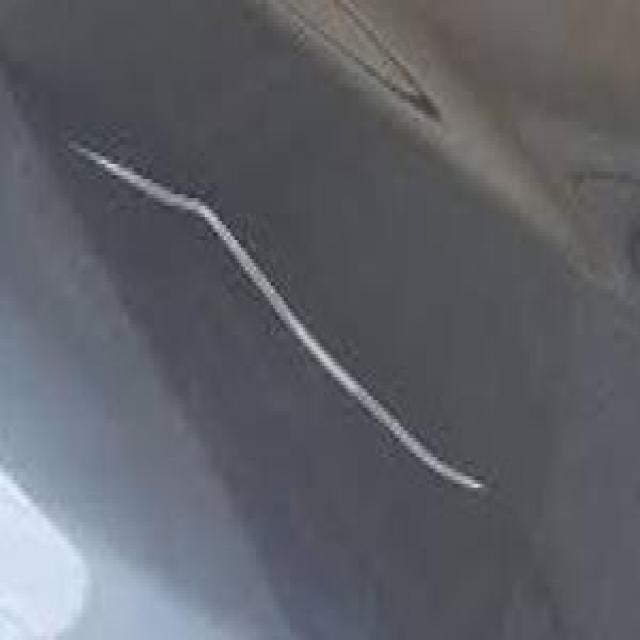scratch: (53, 124, 497, 508)
